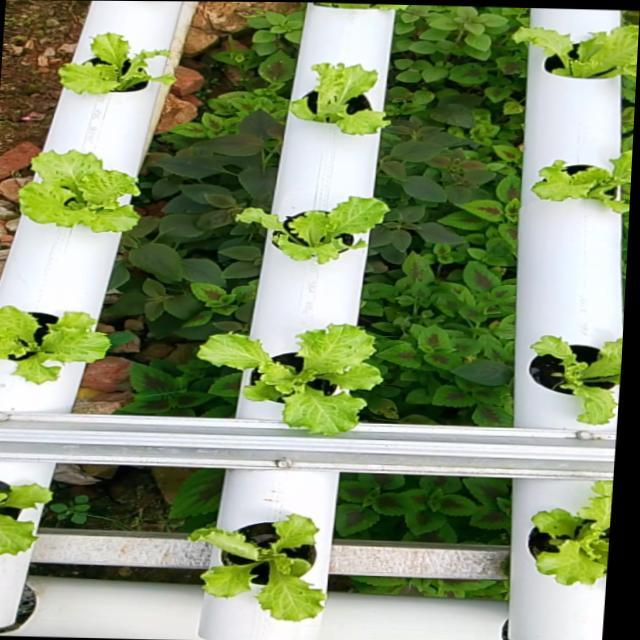Baby: (186, 327, 370, 434), (178, 513, 314, 620), (514, 480, 612, 596), (225, 201, 377, 267), (9, 154, 130, 236), (514, 335, 623, 426), (500, 29, 639, 94), (516, 150, 632, 218), (0, 307, 101, 385), (49, 38, 165, 99), (278, 69, 376, 140), (0, 484, 41, 555)
